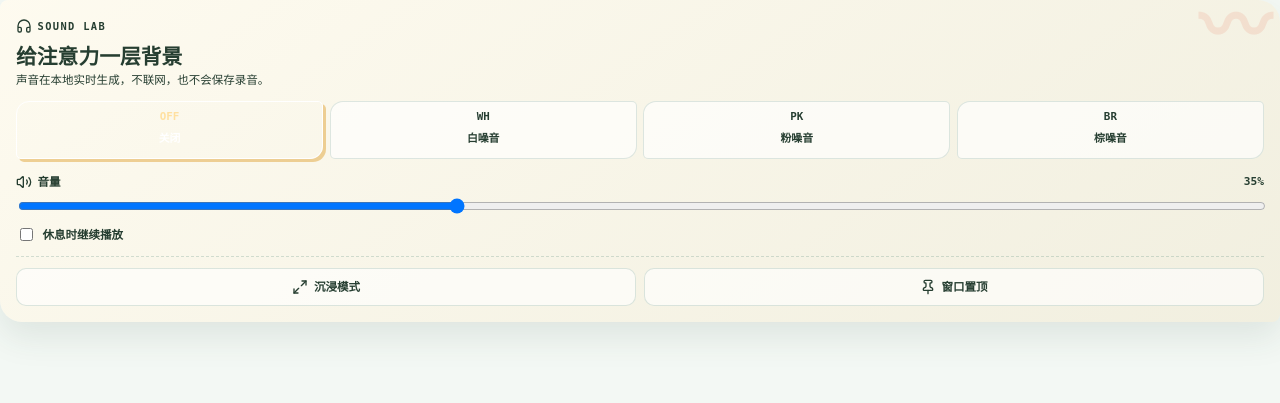
it: enters immersion and rolls pinning back after a desktop failure
Expected: the button "窗口置顶" is shown, 644,268 -> 1264,306
Click the button "沉浸模式". click: x=326, y=287
box: 16,268 -> 636,306
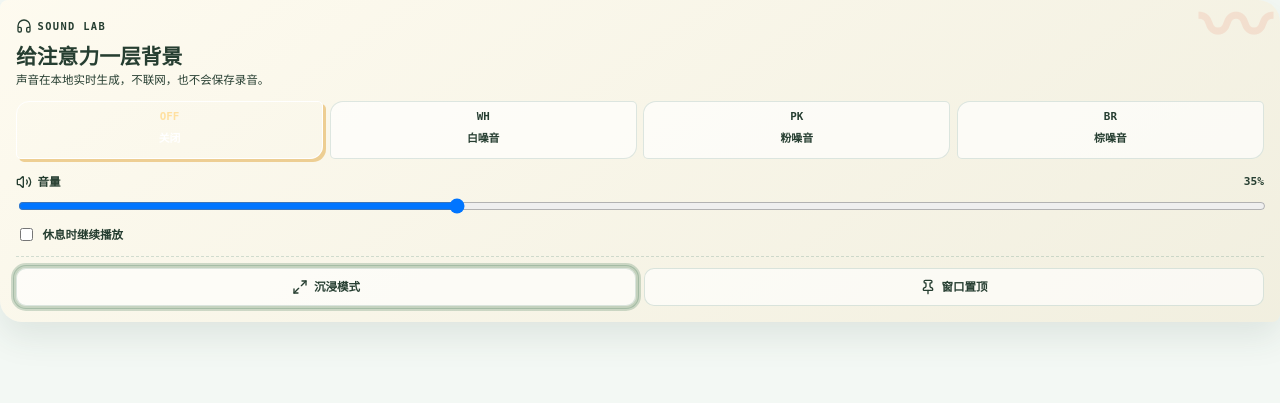
Click the button "窗口置顶". click: x=954, y=287
box: 644,268 -> 1264,306
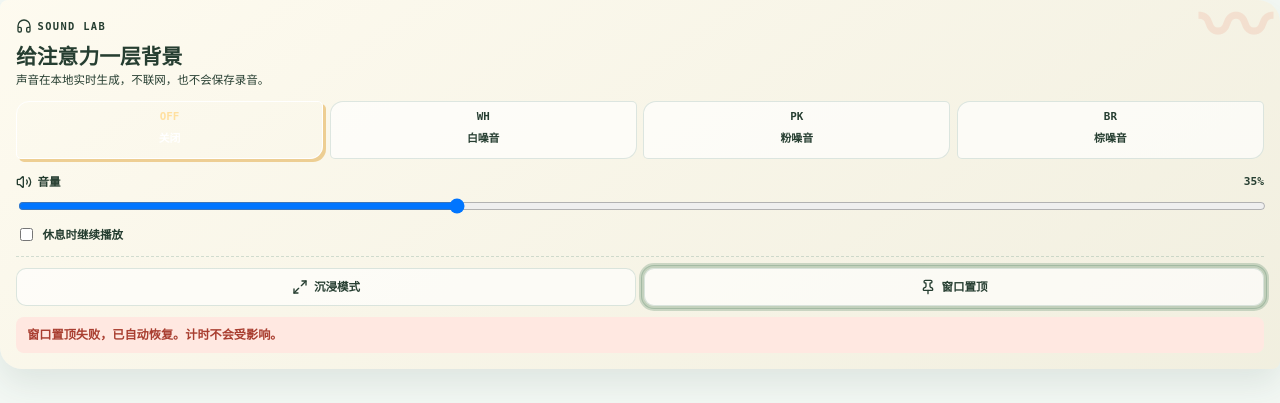
Result: the message shows "窗口置顶失败" at 27,326 -> 282,343
